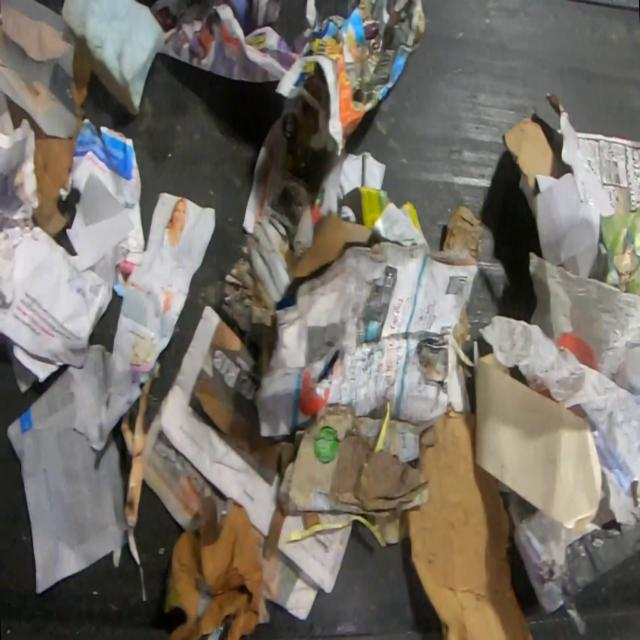cardboard: (404, 402, 534, 639), (277, 401, 436, 518), (58, 0, 167, 117), (544, 91, 617, 217), (519, 172, 603, 276), (283, 210, 376, 279), (500, 115, 556, 192), (440, 203, 484, 260)
soft_plastic: (476, 248, 640, 495), (513, 506, 640, 615)
